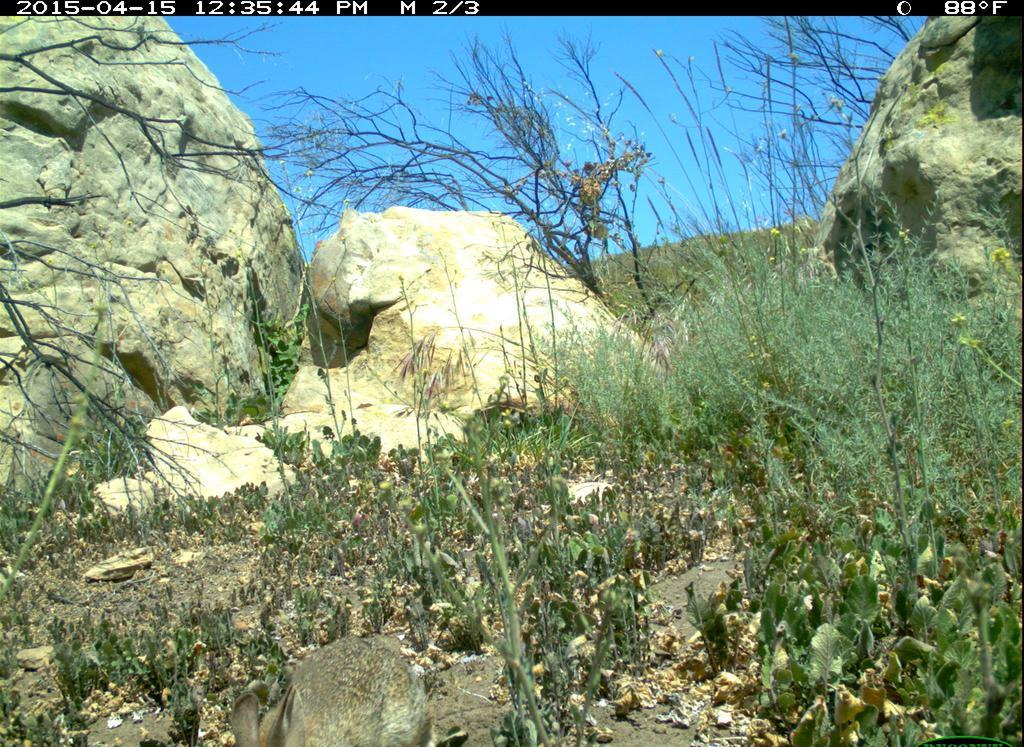rabbit: (201, 614, 455, 747)
